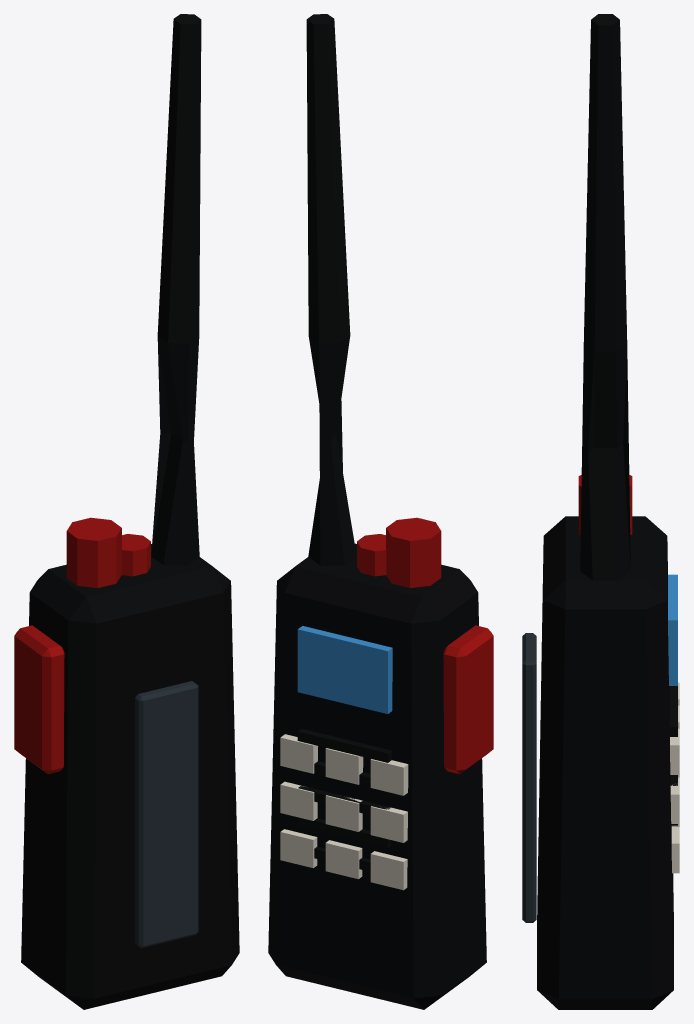
File: ACCESSORY_12_HandheldRadio.obj
3 views of the same model, side by side, from view 1: azimuth 30°, elevation 25°; view 2: azimuth 150°, elevation 25°; view 3: azimuth 270°, elevation 25° (orthographic). The views are drawn at different scales.
Parts seen in each view (by area): view 1: ACCESSORY_12_HandheldRadio_Body, ACCESSORY_12_HandheldRadio_Antenna, ACCESSORY_12_HandheldRadio_Belt_Clip, ACCESSORY_12_HandheldRadio_PTT_Button, ACCESSORY_12_HandheldRadio_Knobs; view 2: ACCESSORY_12_HandheldRadio_Body, ACCESSORY_12_HandheldRadio_Antenna, ACCESSORY_12_HandheldRadio_Keys, ACCESSORY_12_HandheldRadio_PTT_Button, ACCESSORY_12_HandheldRadio_Display, ACCESSORY_12_HandheldRadio_Knobs, ACCESSORY_12_HandheldRadio_Speaker_Grille; view 3: ACCESSORY_12_HandheldRadio_Body, ACCESSORY_12_HandheldRadio_Antenna, ACCESSORY_12_HandheldRadio_Belt_Clip, ACCESSORY_12_HandheldRadio_Keys, ACCESSORY_12_HandheldRadio_Display, ACCESSORY_12_HandheldRadio_Speaker_Grille, ACCESSORY_12_HandheldRadio_Knobs.
Boxes of the visible parts, x1=… form: ACCESSORY_12_HandheldRadio_Body: x1=21, y1=544, x2=239, y2=1009; ACCESSORY_12_HandheldRadio_Antenna: x1=151, y1=14, x2=201, y2=565; ACCESSORY_12_HandheldRadio_Belt_Clip: x1=135, y1=681, x2=198, y2=948; ACCESSORY_12_HandheldRadio_PTT_Button: x1=14, y1=625, x2=64, y2=774; ACCESSORY_12_HandheldRadio_Knobs: x1=66, y1=517, x2=150, y2=587; ACCESSORY_12_HandheldRadio_Body: x1=268, y1=543, x2=486, y2=1009; ACCESSORY_12_HandheldRadio_Antenna: x1=306, y1=14, x2=356, y2=565; ACCESSORY_12_HandheldRadio_Keys: x1=280, y1=734, x2=408, y2=890; ACCESSORY_12_HandheldRadio_PTT_Button: x1=443, y1=625, x2=493, y2=774; ACCESSORY_12_HandheldRadio_Display: x1=297, y1=626, x2=392, y2=713; ACCESSORY_12_HandheldRadio_Knobs: x1=357, y1=517, x2=441, y2=587; ACCESSORY_12_HandheldRadio_Speaker_Grille: x1=297, y1=728, x2=391, y2=871; ACCESSORY_12_HandheldRadio_Body: x1=537, y1=516, x2=673, y2=1009; ACCESSORY_12_HandheldRadio_Antenna: x1=580, y1=14, x2=630, y2=580; ACCESSORY_12_HandheldRadio_Belt_Clip: x1=522, y1=633, x2=536, y2=922; ACCESSORY_12_HandheldRadio_Keys: x1=670, y1=682, x2=679, y2=873; ACCESSORY_12_HandheldRadio_Display: x1=668, y1=574, x2=677, y2=685; ACCESSORY_12_HandheldRadio_Speaker_Grille: x1=669, y1=686, x2=677, y2=825; ACCESSORY_12_HandheldRadio_Knobs: x1=578, y1=475, x2=632, y2=535.
Bounding box in the file's own units: 0.0629 × 0.3001 × 0.0435.
